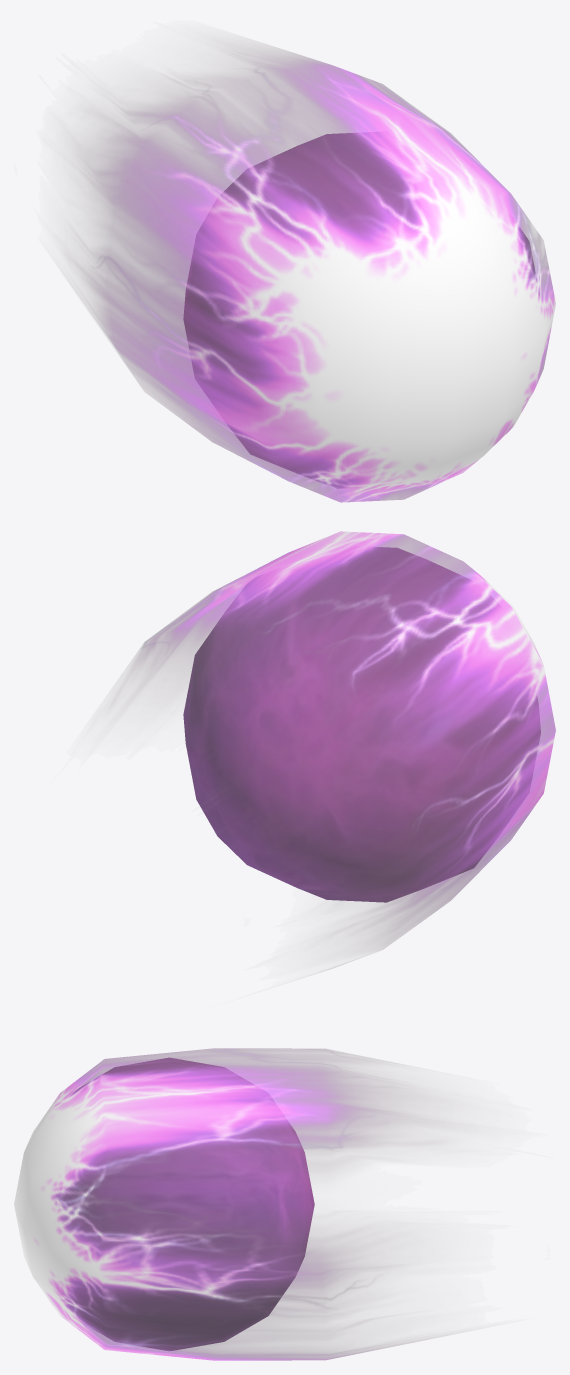
Rendered from Orb.glb.
3 renders of one model, top to bottom at view 1: azimuth 30°, elevation 25°; view 2: azimuth 150°, elevation 25°; view 3: azimuth 270°, elevation 25°, orthographic. The views are drawn at different scales.
Visible parts, largest first — view 1: Orb; view 2: Orb; view 3: Orb.
Boxes of the visible parts, x1,y1,x2,y2 form: Orb: [64, 39, 555, 502]; Orb: [108, 531, 555, 972]; Orb: [14, 1048, 467, 1360].
Size of what is drawn, in the model's own units: 0.569 by 0.569 by 1.
Materials: 2 (2 with a texture image).
